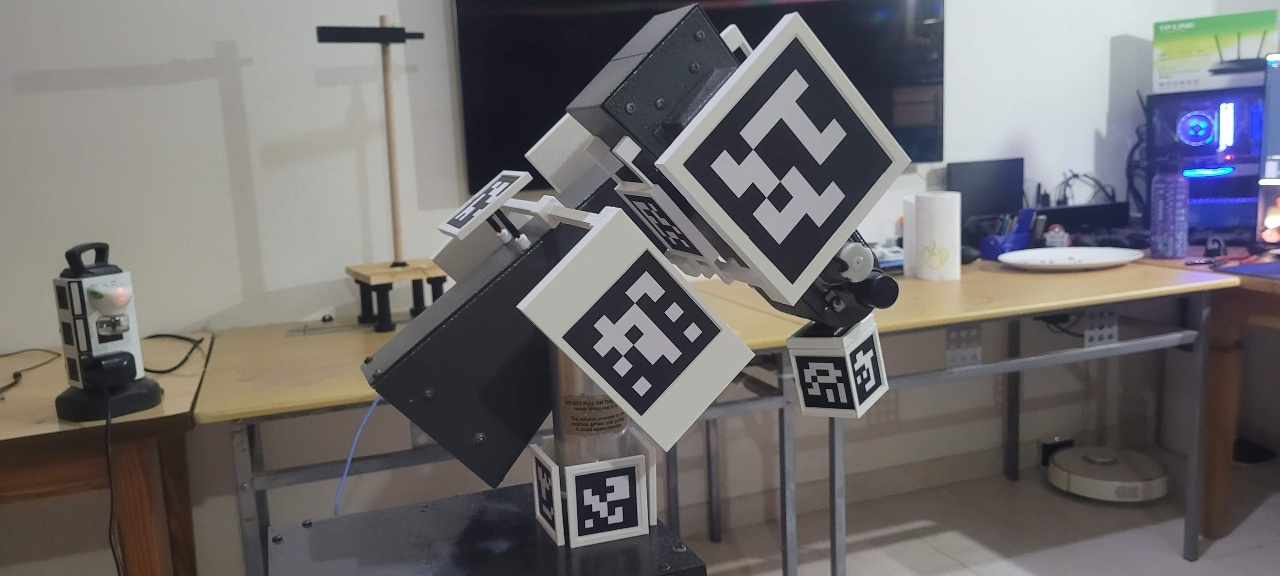Robot: (359, 2, 915, 549)
